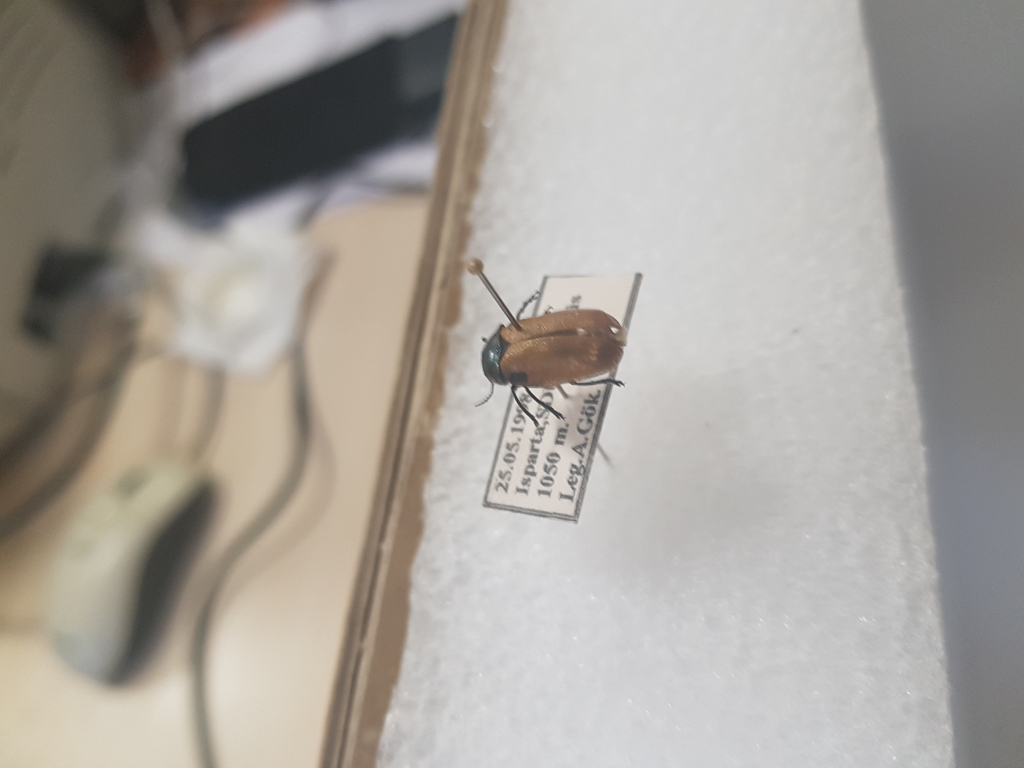Labidostomis_asiatica: (465, 286, 642, 428)
